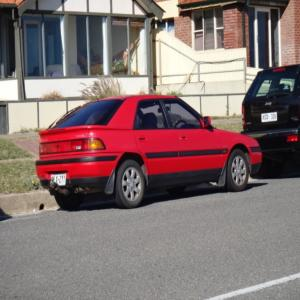Vehicle-registration-plate: (51, 174, 67, 189), (263, 112, 278, 123)
